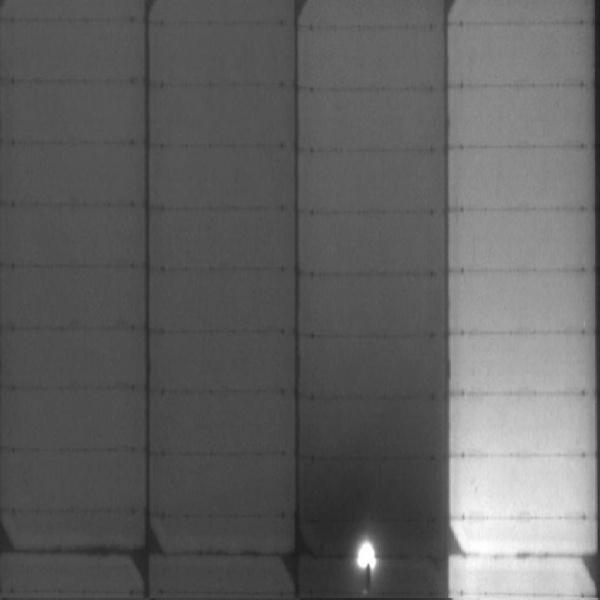hot_spot: (356, 540, 376, 568), (464, 537, 490, 551)
